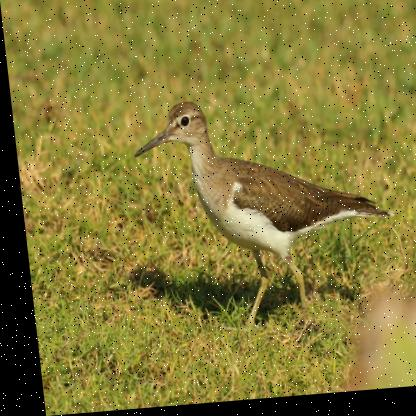Burung: (122, 96, 388, 331)
